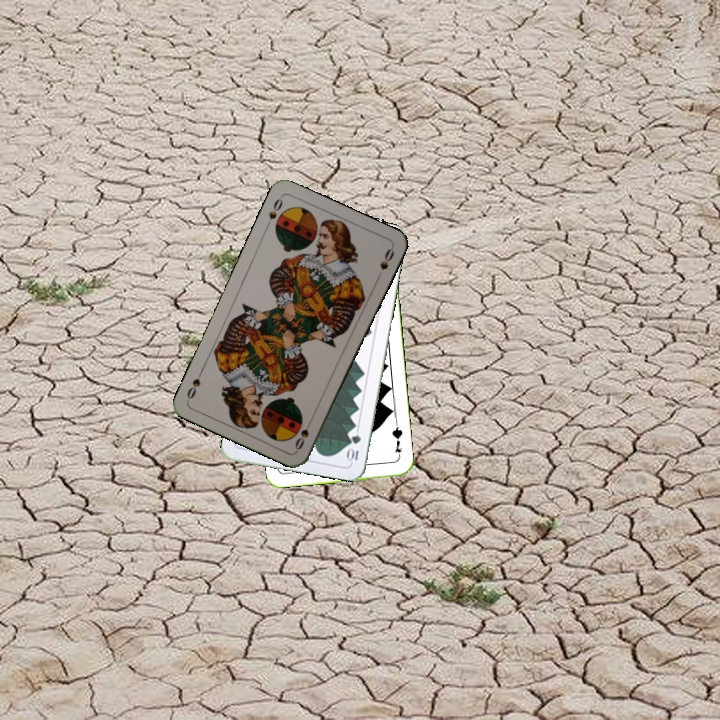G10: (344, 431, 363, 465)
G7: (388, 420, 405, 461)
SO: (291, 414, 316, 453), (262, 194, 285, 231)
